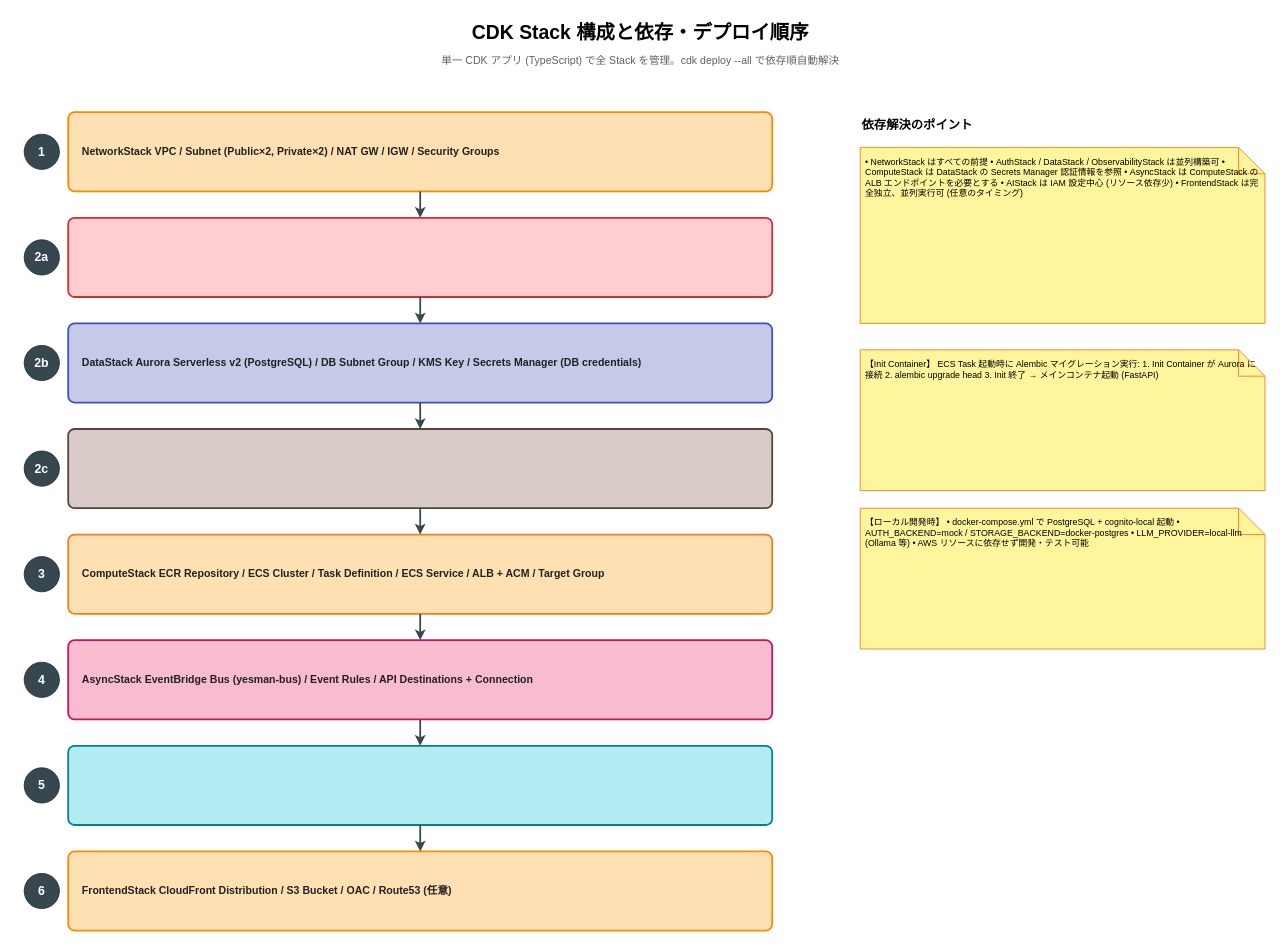
Some shapes in this 1280 by 946 pixel diagram are drawn without their labels. The box of each missing label's shape, as (x1, y1, x2, y2) in pixels:
AIStack Bedrock Guardrails 設定 / IAM (Polly, Transcribe, Bedrock InvokeModel): (67, 744, 773, 825)
AuthStack Cognito User Pool / App Client / Domain (Hosted UI): (67, 216, 773, 297)
ObservabilityStack CloudWatch Log Group / Metrics / X-Ray Group / アラーム: (67, 428, 773, 509)
